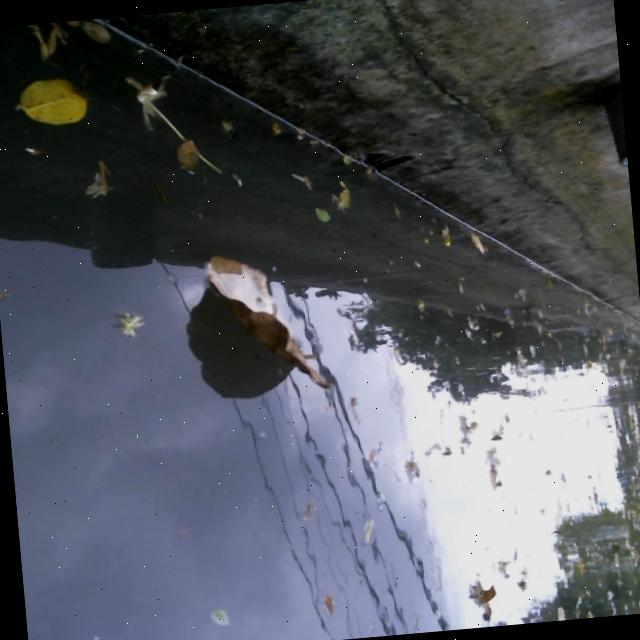Big-leaf: (198, 245, 340, 403)
Small-leaf: (13, 68, 100, 135), (20, 21, 75, 63), (170, 134, 203, 176), (480, 446, 508, 492), (468, 580, 500, 620), (79, 17, 115, 47), (352, 513, 381, 547), (333, 177, 356, 215), (205, 601, 234, 630), (462, 229, 490, 259), (399, 451, 424, 483), (431, 222, 458, 249), (310, 202, 336, 226), (481, 425, 506, 444), (548, 602, 572, 621), (317, 592, 335, 616), (214, 117, 238, 135), (264, 118, 285, 138)
